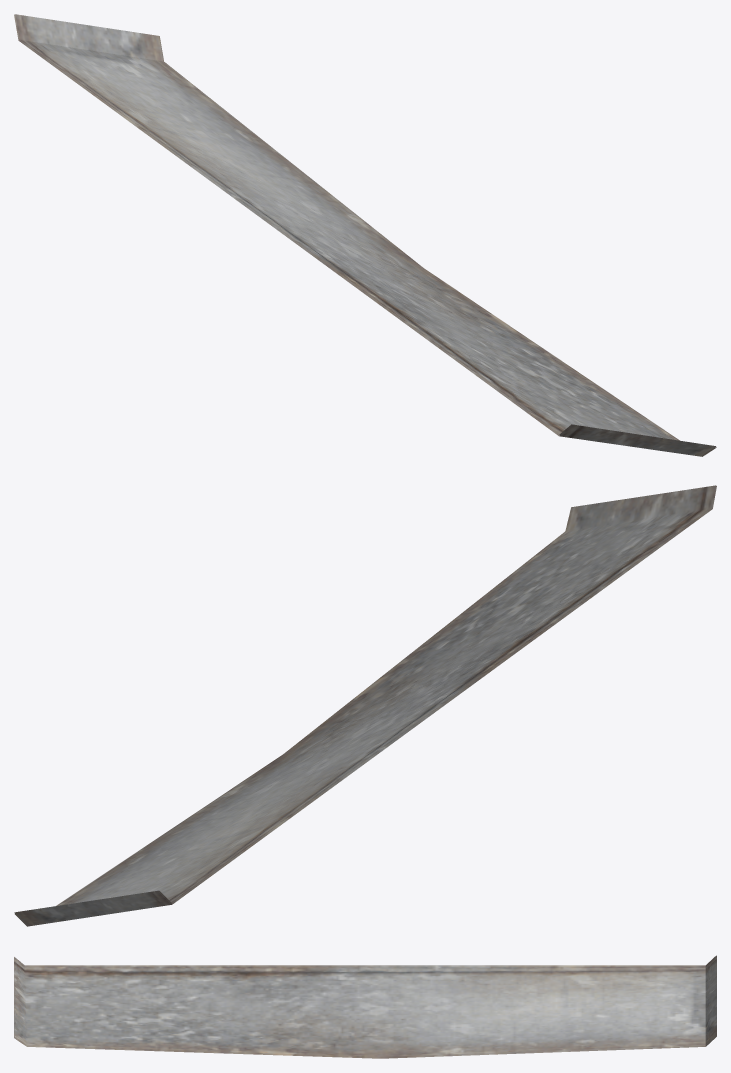
The model's file is Outflow_Big_01.fbx.
The picture shows the model from 3 angles, top to bottom: view 1: azimuth 30°, elevation 25°; view 2: azimuth 150°, elevation 25°; view 3: azimuth 270°, elevation 25°; orthographic projection. The views are drawn at different scales.
Parts seen in each view (by area): view 1: Outflow_Big_01; view 2: Outflow_Big_01; view 3: Outflow_Big_01.
Boxes of the visible parts, x1,y1,x2,y2 form: Outflow_Big_01: [14, 14, 716, 456]; Outflow_Big_01: [14, 485, 716, 926]; Outflow_Big_01: [14, 955, 716, 1058].
Size of the model in its own units: 33 by 213 by 19.97.
Materials: 1 (1 with a texture image).
